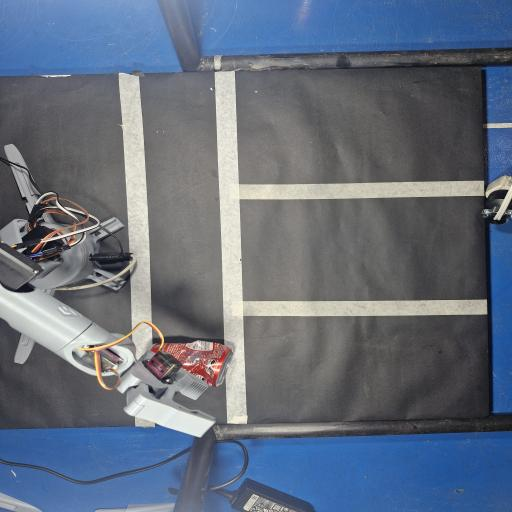lata_defectuoso: (163, 340, 232, 387), (151, 344, 158, 353)
